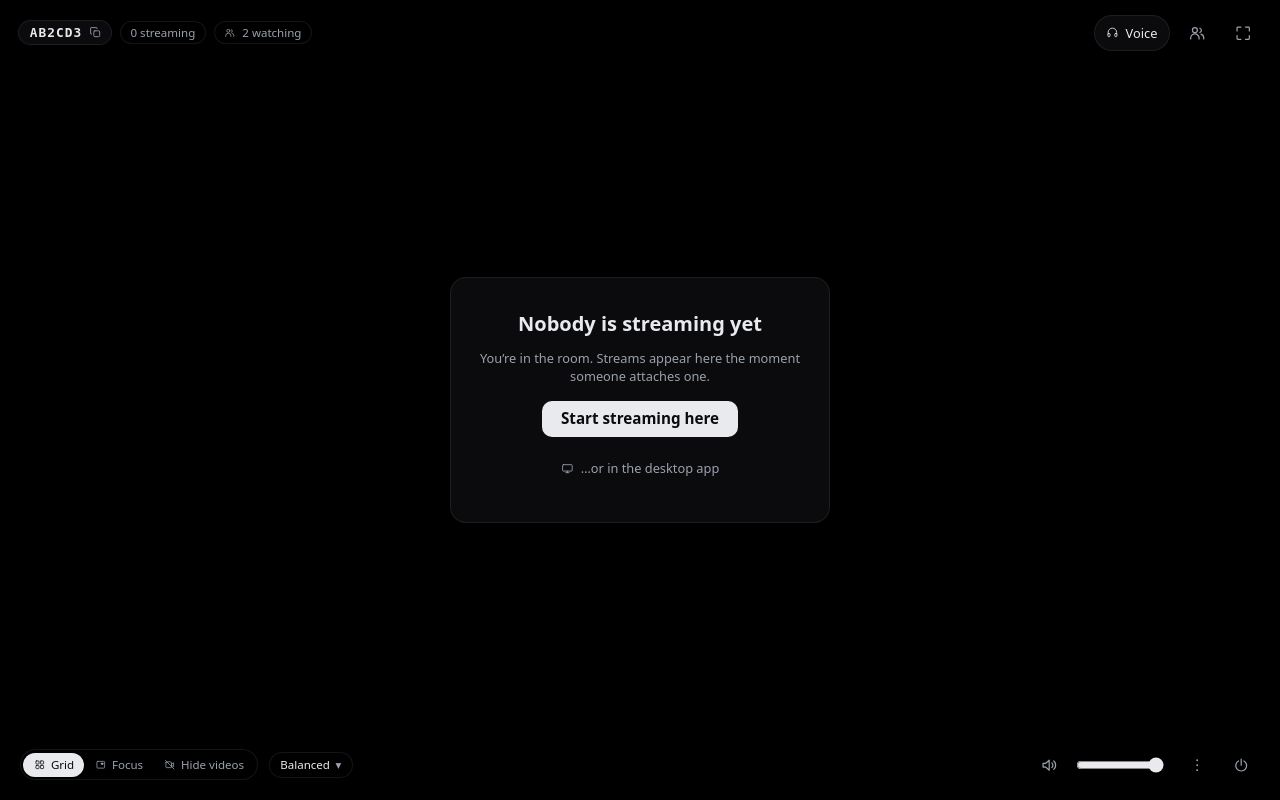
Test case: room voice UI › a roster without Available says voice is unavailable and offers no join
What coordinates should you click on to do the following:
click the button "Voice"
I would click on:
 (1132, 33)
Its box is [1094, 15, 1170, 51].
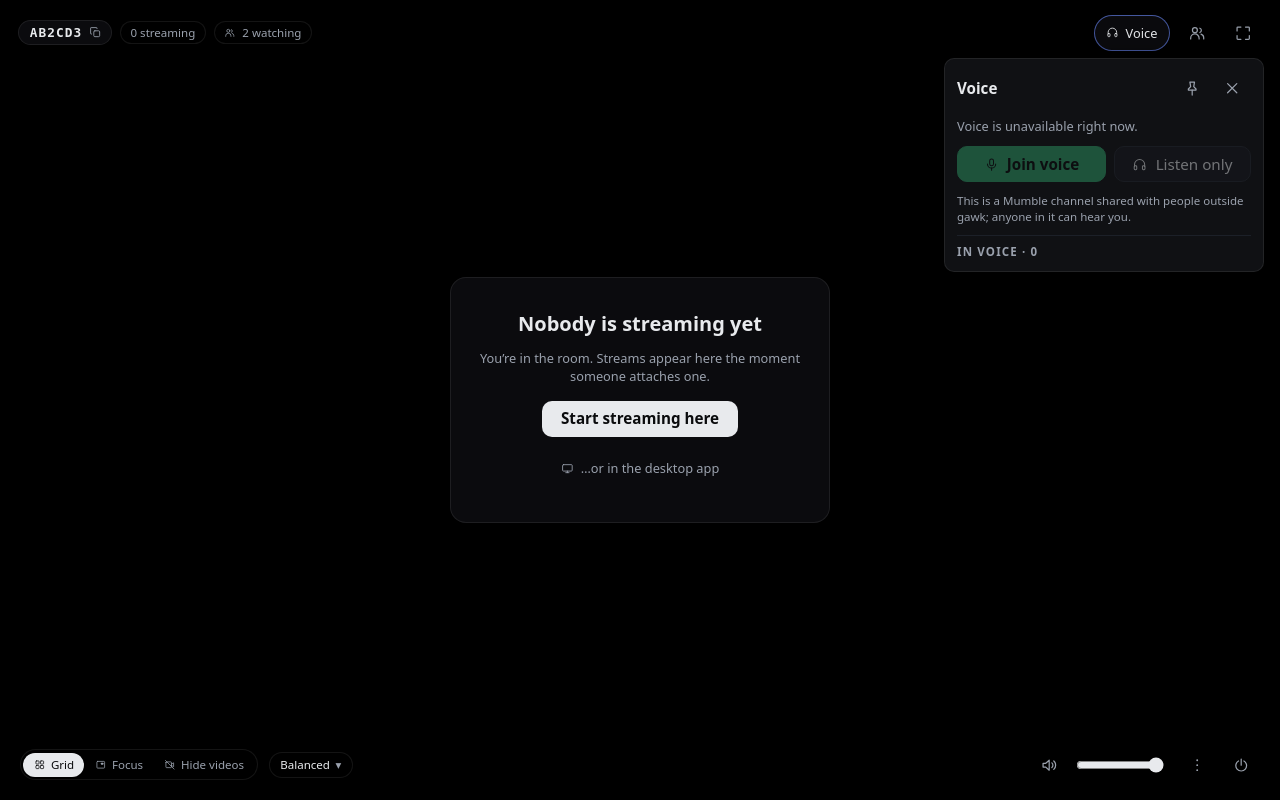
Now the text "Voice is unavailable right now." is shown, box [957, 117, 1138, 135]
Now the button "Join voice" is disabled, box [957, 146, 1106, 182]
